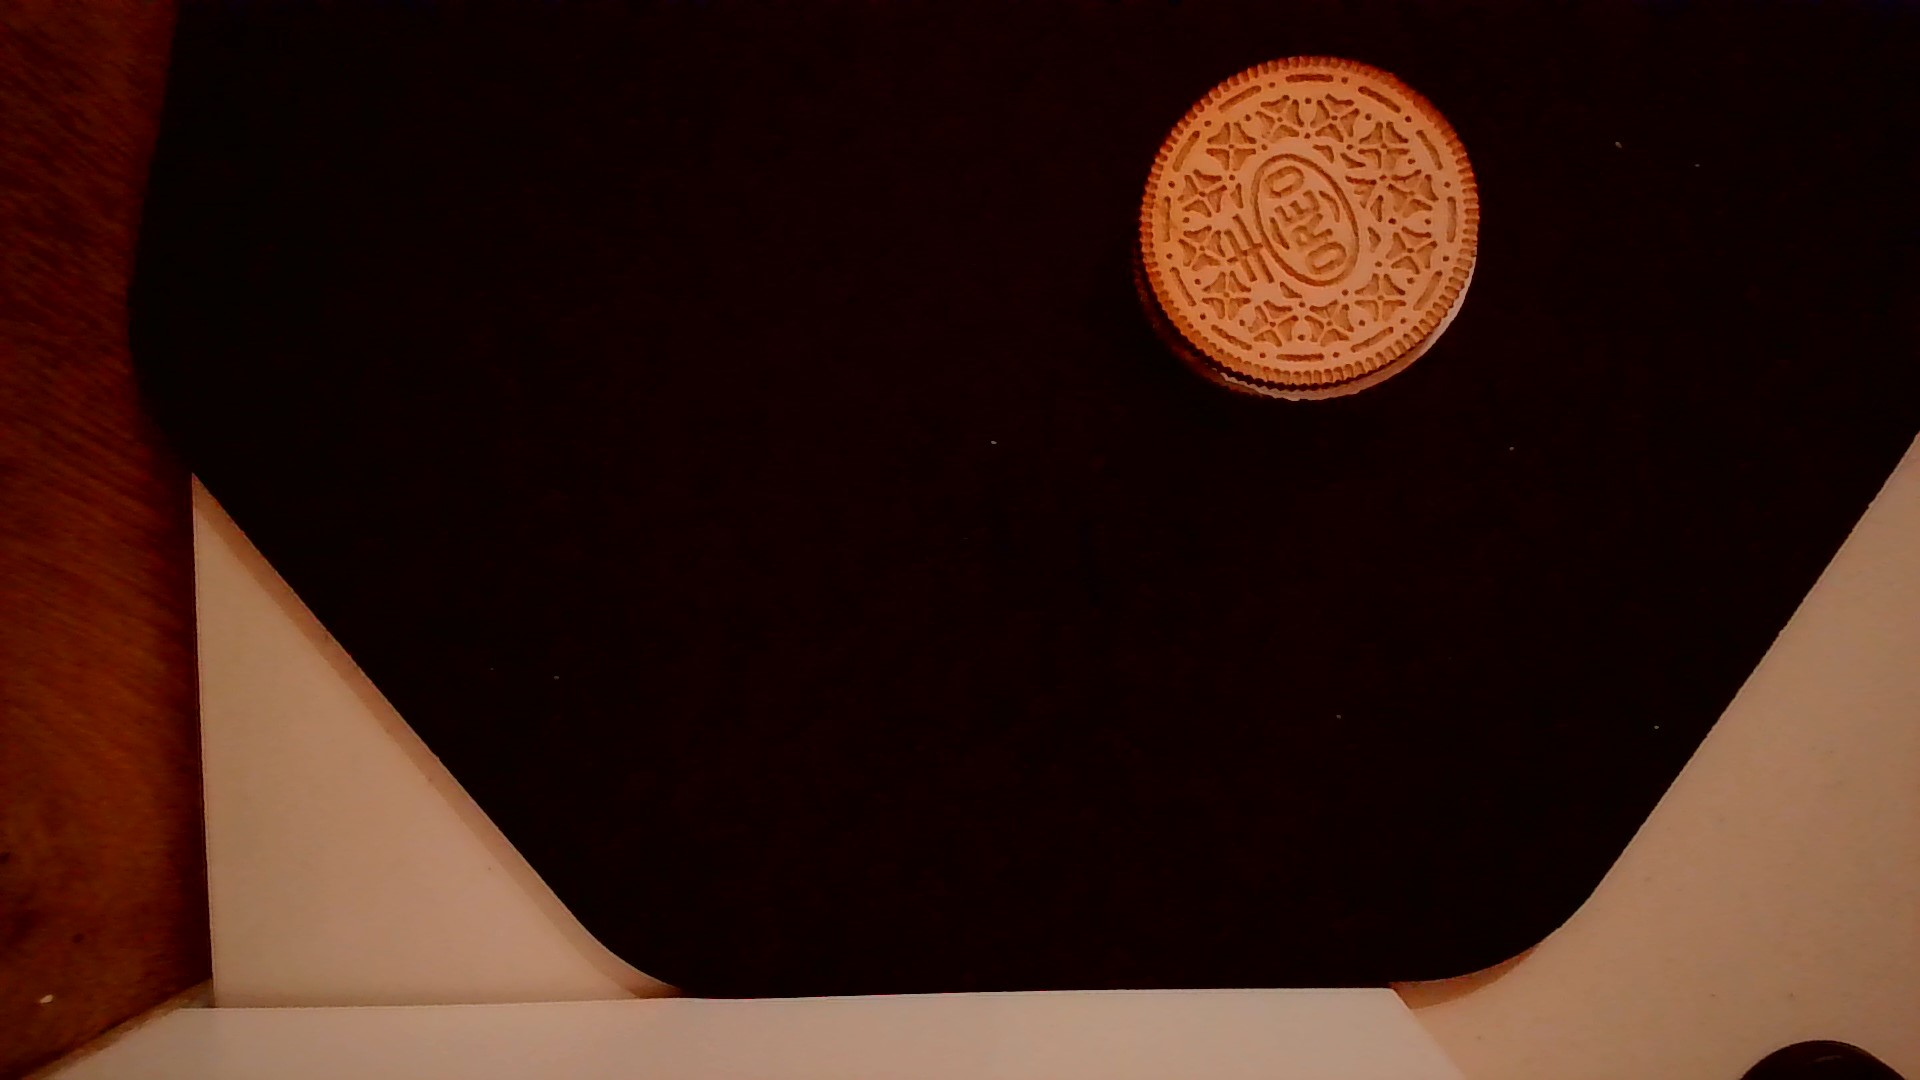Oréo: (1126, 49, 1487, 404)
